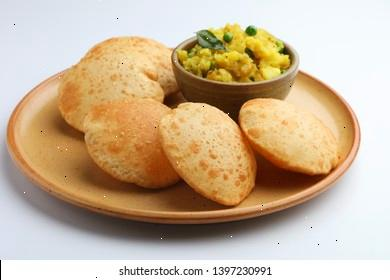puri: (47, 101, 331, 204)
